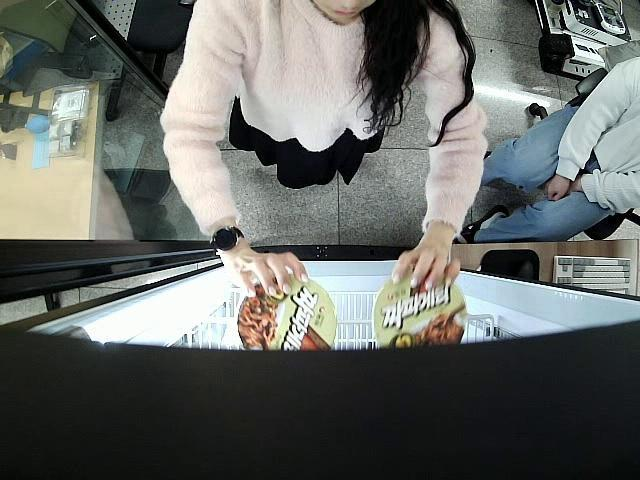03_chapagetti_L: (238, 274, 338, 354), (372, 273, 466, 352)
